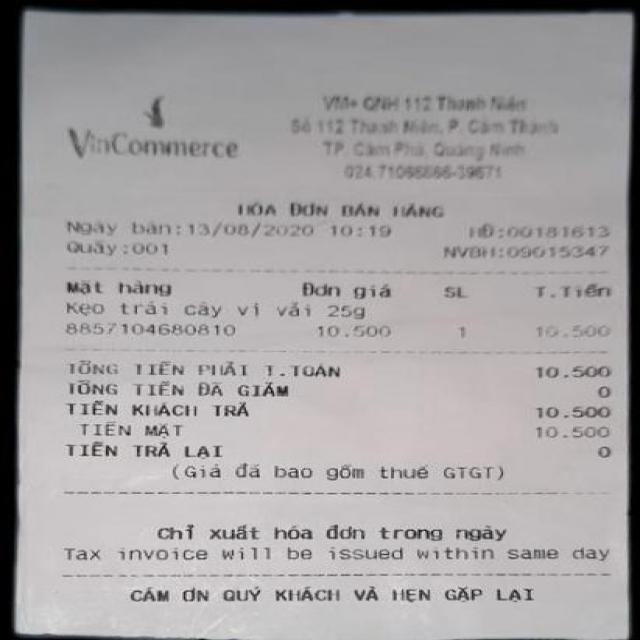Date: (185, 219, 316, 243)
Store_Name: (45, 90, 252, 164)
Total_Amount: (60, 352, 619, 384)
